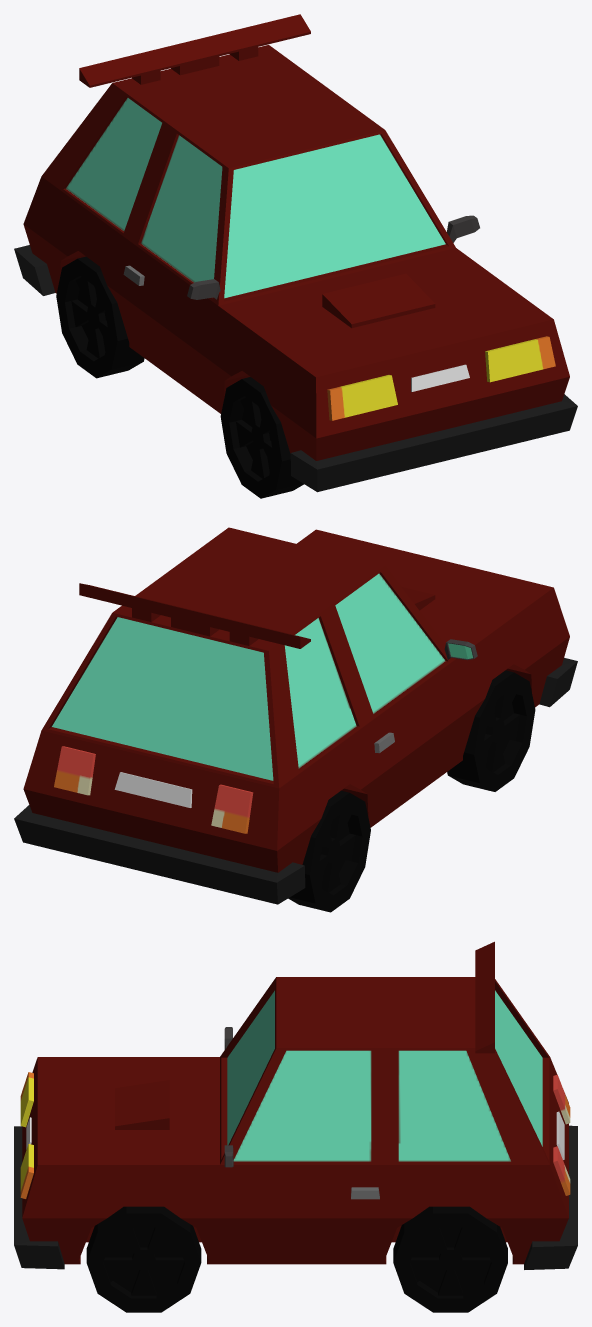
Rendered from CAR.glb.
The picture shows the model from 3 angles, top to bottom: view 1: azimuth 30°, elevation 25°; view 2: azimuth 150°, elevation 25°; view 3: azimuth 270°, elevation 25°; orthographic projection. The views are drawn at different scales.
Visible parts, largest first — view 1: Cylinder.001, Cylinder.003, Cylinder.005; view 2: Cylinder.001, Cylinder.005, Cylinder.003; view 3: Cylinder.001, Cylinder.004, Cylinder.002.
Boxes of the visible parts, box(x1,y1,x2,y2) form: Cylinder.001: box(14, 14, 577, 492); Cylinder.003: box(56, 256, 144, 378); Cylinder.005: box(220, 377, 303, 498); Cylinder.001: box(14, 527, 577, 904); Cylinder.005: box(447, 670, 535, 791); Cylinder.003: box(288, 790, 370, 912); Cylinder.001: box(14, 941, 577, 1269); Cylinder.004: box(86, 1206, 201, 1312); Cylinder.002: box(393, 1206, 507, 1312).
Size of the model in its own units: 6.62 by 6.16 by 11.96.
Materials: 2 (2 with a texture image).
